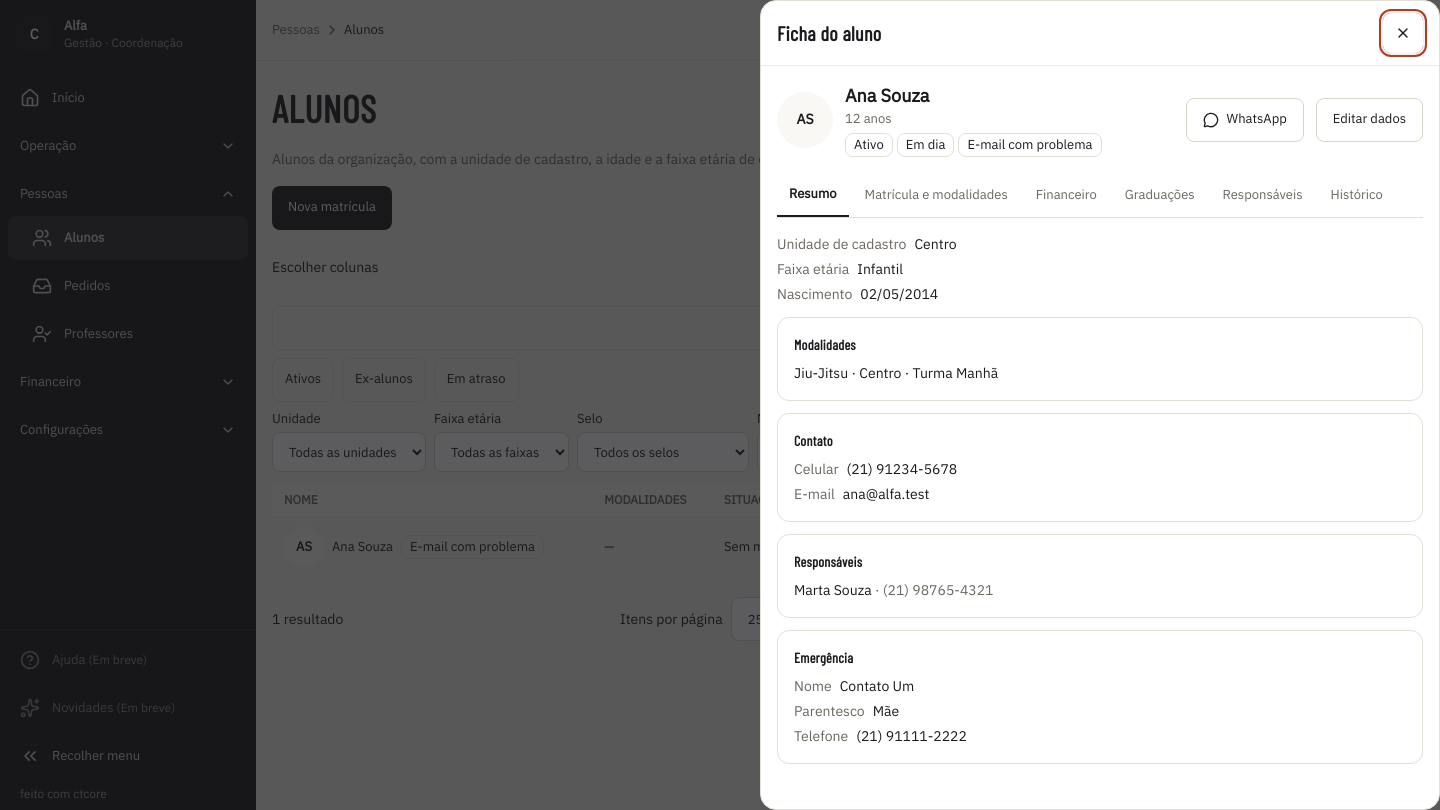
Test case: ficha do aluno (RF-ALU-03) › CA33: modalidade de outra unidade e plano agendado: sem ações, só leitura
Expected: the text "Marta Souza" is shown, [794,581,872,599]
Click the tab "Matrícula e modalidades": x=936, y=195 [853,173,1020,217]
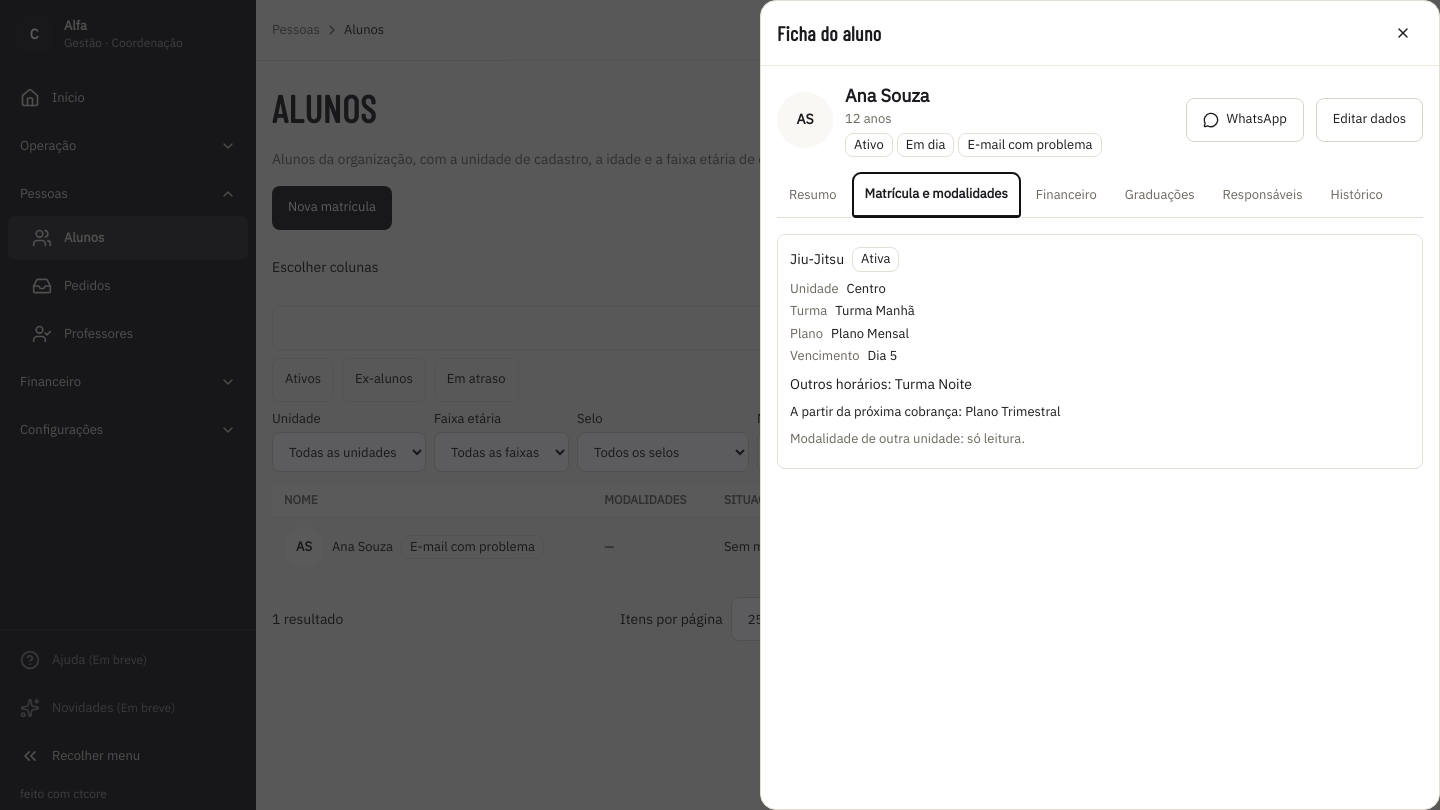
Expected: the text "A partir da próxima cobrança: Plano Trimestral" is shown, [790,403,1061,420]
Expected: the text "Modalidade de outra unidade: só leitura." is shown, [790,430,1025,446]
